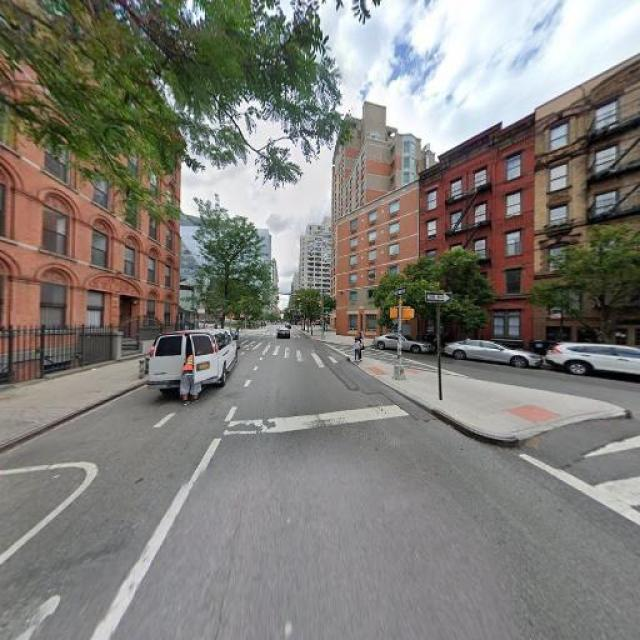Building: (1, 1, 178, 379), (539, 52, 640, 350), (418, 115, 534, 344), (335, 185, 414, 337)
